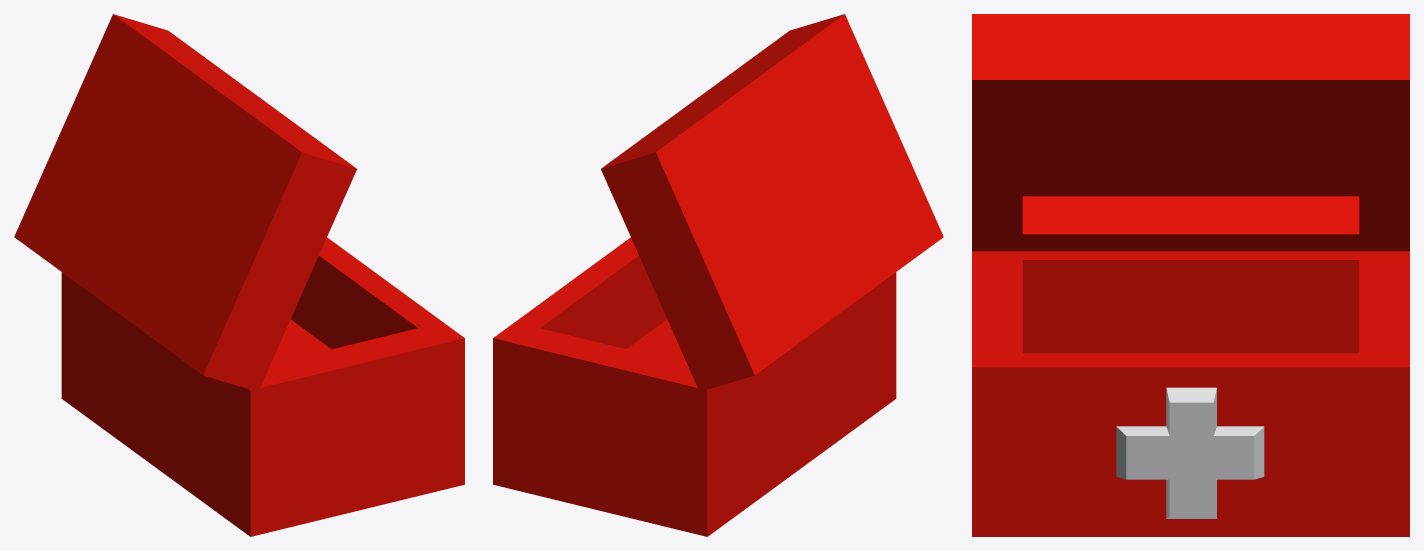
File: FirstAidKit.fbx
The picture shows the model from 3 angles, left to right: view 1: azimuth 30°, elevation 25°; view 2: azimuth 150°, elevation 25°; view 3: azimuth 270°, elevation 25°; orthographic projection. The views are drawn at different scales.
Visible parts, largest first — view 1: FirstAidKit; view 2: FirstAidKit; view 3: FirstAidKit.
Part boxes in pixels (box(x1,y1,x2,y2)): FirstAidKit: box(14, 14, 464, 536); FirstAidKit: box(493, 14, 943, 536); FirstAidKit: box(972, 14, 1409, 536).
Size of the model in its own units: 98.79 by 129 by 119.
